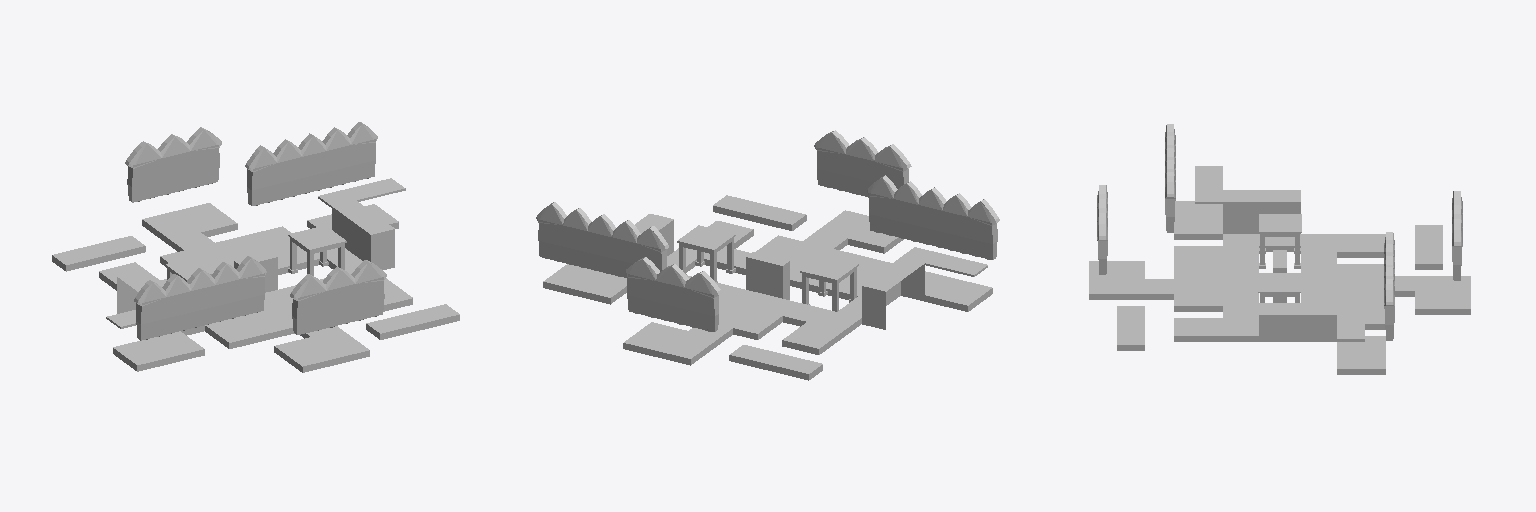
The model's file is MiddleTurf.obj.
3 views of the same model, side by side, from view 1: azimuth 30°, elevation 25°; view 2: azimuth 150°, elevation 25°; view 3: azimuth 270°, elevation 25° (orthographic).
Parts seen in each view (by area): view 1: COL_17, COL_C6, COL_6, COL_C5, COL_4007, COL_8; view 2: COL_17, COL_C6, COL_6, COL_C5, COL_4007, COL_8, COL_17.001; view 3: COL_C6, COL_17, COL_4007, COL_C5, COL_6, COL_8.
Part boxes in pixels (left/top/right/bottom): COL_17: left=117, top=122, right=394, bottom=340; COL_C6: left=53, top=203, right=459, bottom=366; COL_6: left=52, top=220, right=459, bottom=372; COL_C5: left=117, top=200, right=394, bottom=291; COL_4007: left=106, top=178, right=405, bottom=335; COL_8: left=165, top=235, right=346, bottom=281; COL_17: left=536, top=130, right=999, bottom=331; COL_C6: left=543, top=195, right=991, bottom=373; COL_6: left=543, top=206, right=992, bottom=380; COL_C5: left=635, top=214, right=924, bottom=291; COL_4007: left=667, top=247, right=987, bottom=340; COL_8: left=677, top=235, right=858, bottom=311; COL_17.001: left=746, top=257, right=789, bottom=291; COL_C6: left=1089, top=201, right=1470, bottom=368; COL_17: left=1097, top=124, right=1462, bottom=341; COL_4007: left=1195, top=166, right=1364, bottom=341; COL_C5: left=1223, top=190, right=1336, bottom=314; COL_6: left=1089, top=234, right=1470, bottom=374; COL_8: left=1258, top=232, right=1301, bottom=302.
Bounding box in the file's own units: 58 × 16.94 × 54.